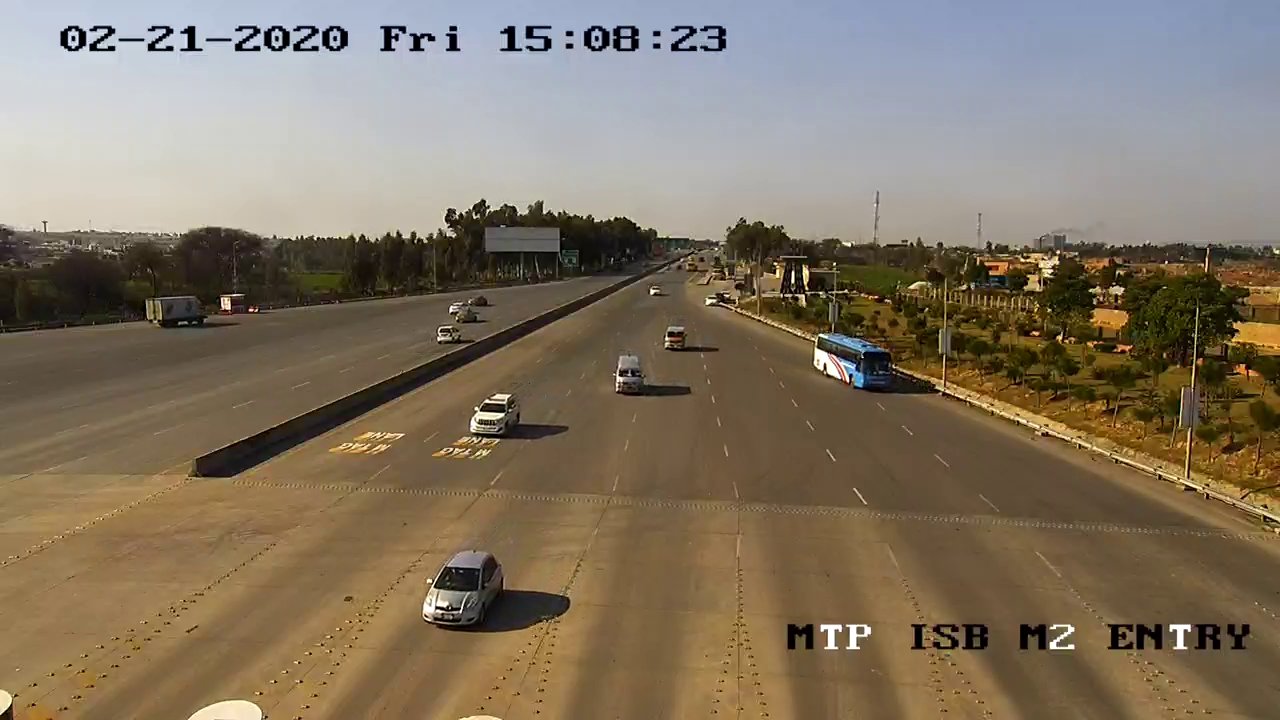f1: (412, 540, 520, 641), (463, 388, 535, 454)
f3: (603, 348, 662, 400)
f4: (800, 330, 903, 401)
